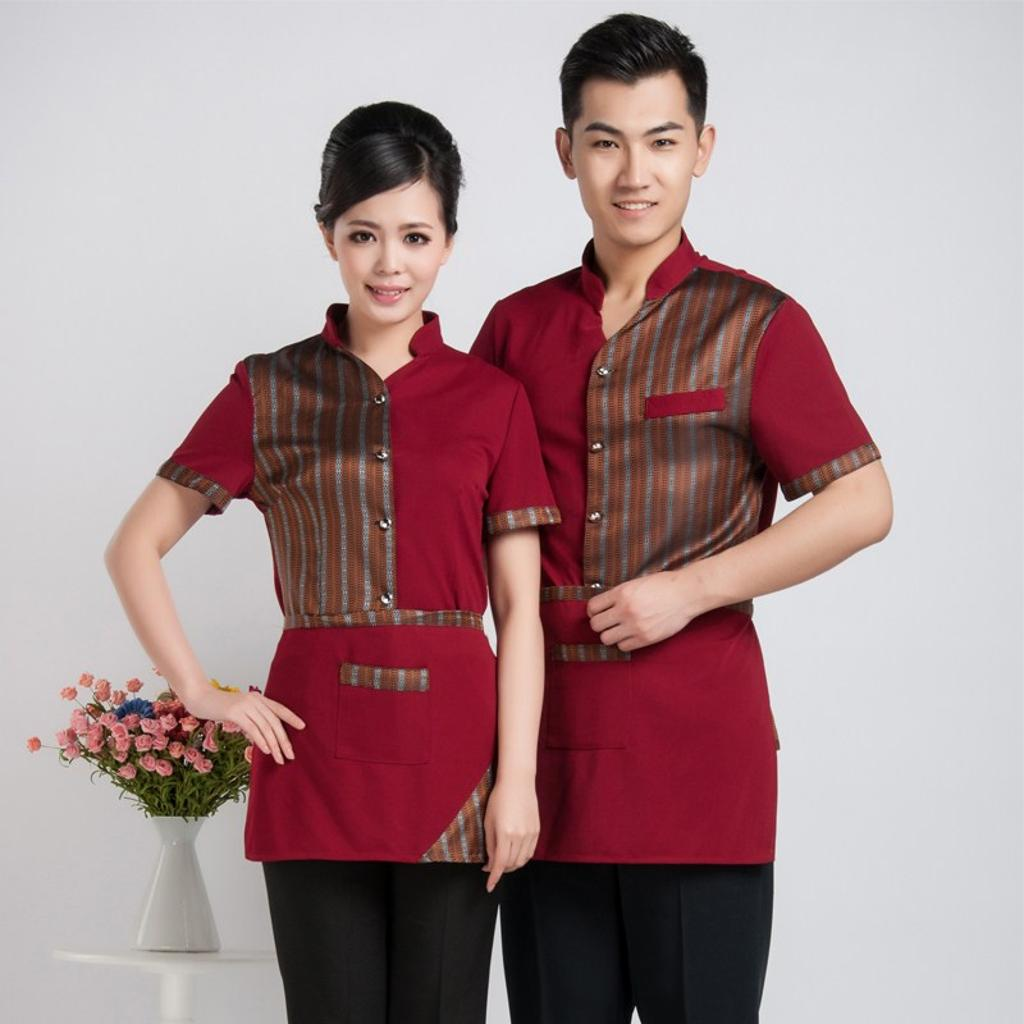face: (570, 56, 692, 244), (334, 160, 450, 326)
